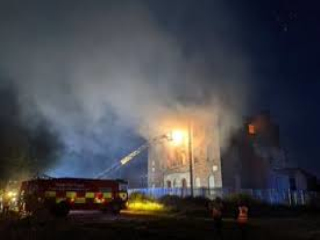fire: (161, 123, 190, 151)
smoke: (40, 20, 238, 130)
